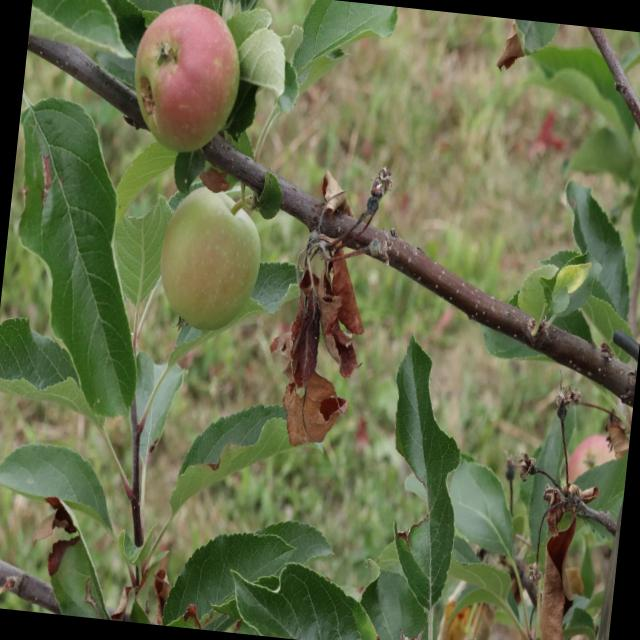-FireBlight-: (264, 165, 379, 462), (513, 483, 593, 640)
